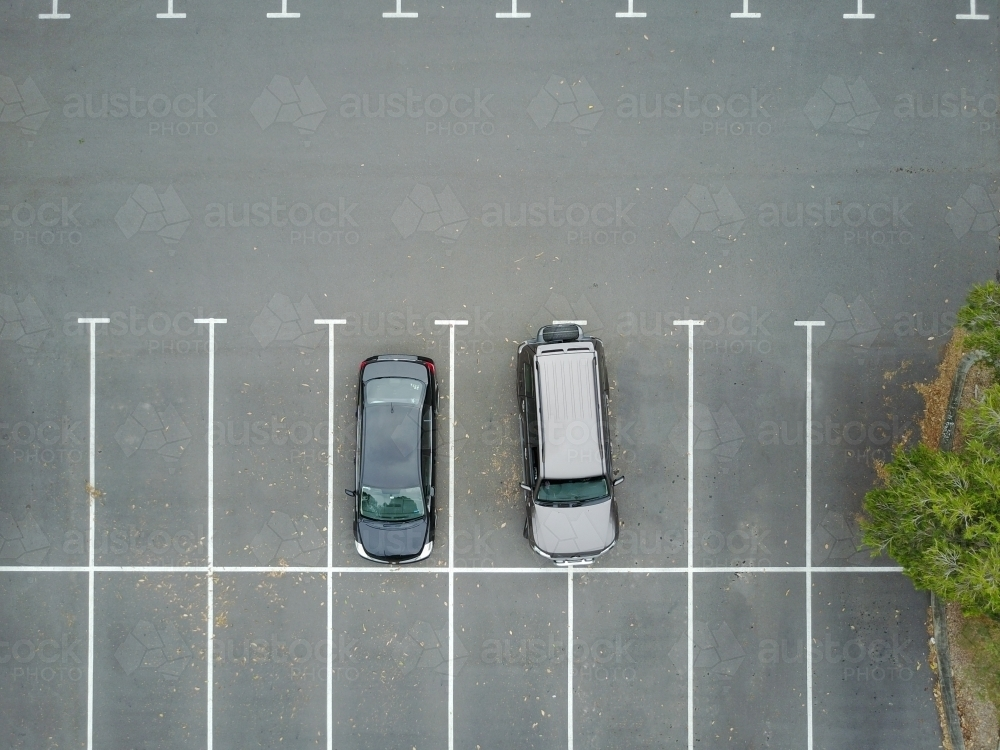Car: (518, 320, 622, 562), (345, 349, 443, 567)
LaneMark: (1, 560, 903, 578), (681, 334, 702, 750), (321, 336, 341, 750), (202, 332, 220, 750), (800, 334, 817, 750), (85, 333, 100, 750), (445, 333, 459, 750), (565, 565, 576, 750), (429, 314, 473, 331), (263, 8, 306, 24), (487, 9, 536, 22), (371, 9, 422, 20), (148, 9, 187, 21), (952, 12, 991, 24), (309, 315, 346, 326), (34, 12, 77, 21), (834, 12, 877, 21), (76, 315, 111, 326), (608, 11, 650, 20), (190, 317, 229, 326), (789, 318, 825, 327), (668, 318, 708, 326), (723, 12, 769, 17)
